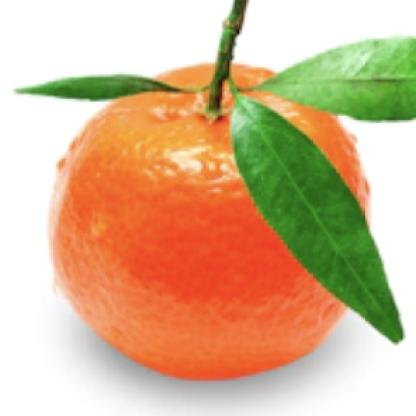fresh: (51, 46, 365, 379)
